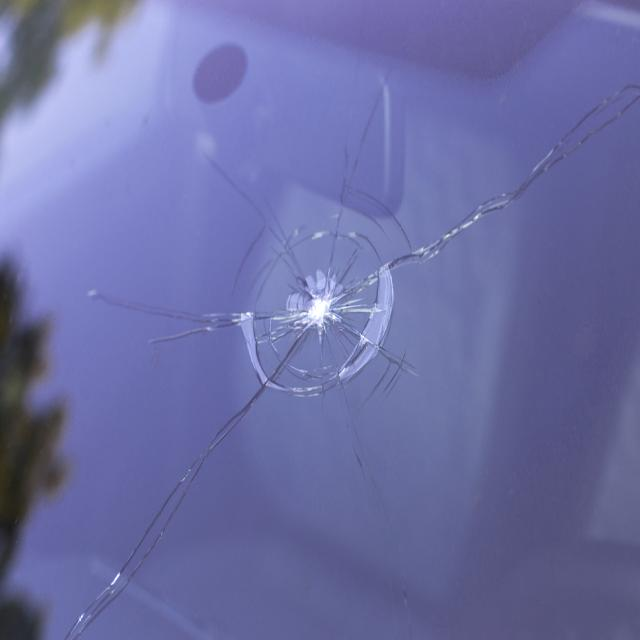Fissure: (402, 8, 640, 295), (61, 354, 287, 640), (235, 213, 423, 435), (327, 27, 413, 227), (83, 263, 248, 358), (190, 139, 289, 282)
